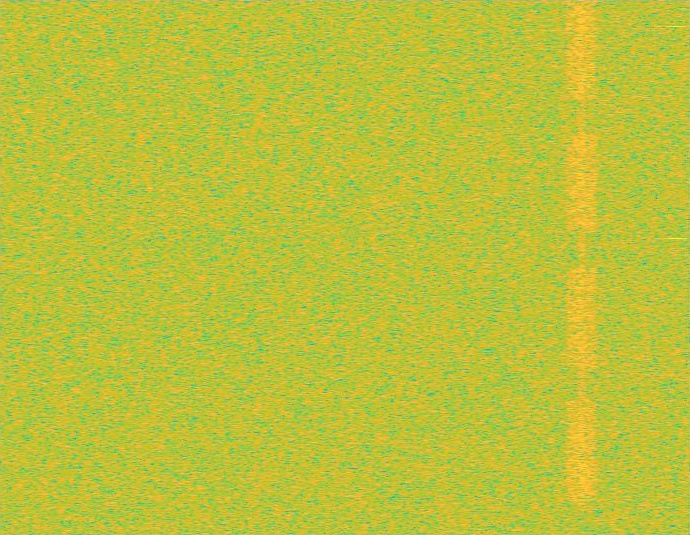5G: (565, 0, 599, 534)
DSSS: (578, 0, 586, 534)
Radar: (669, 0, 683, 534)
